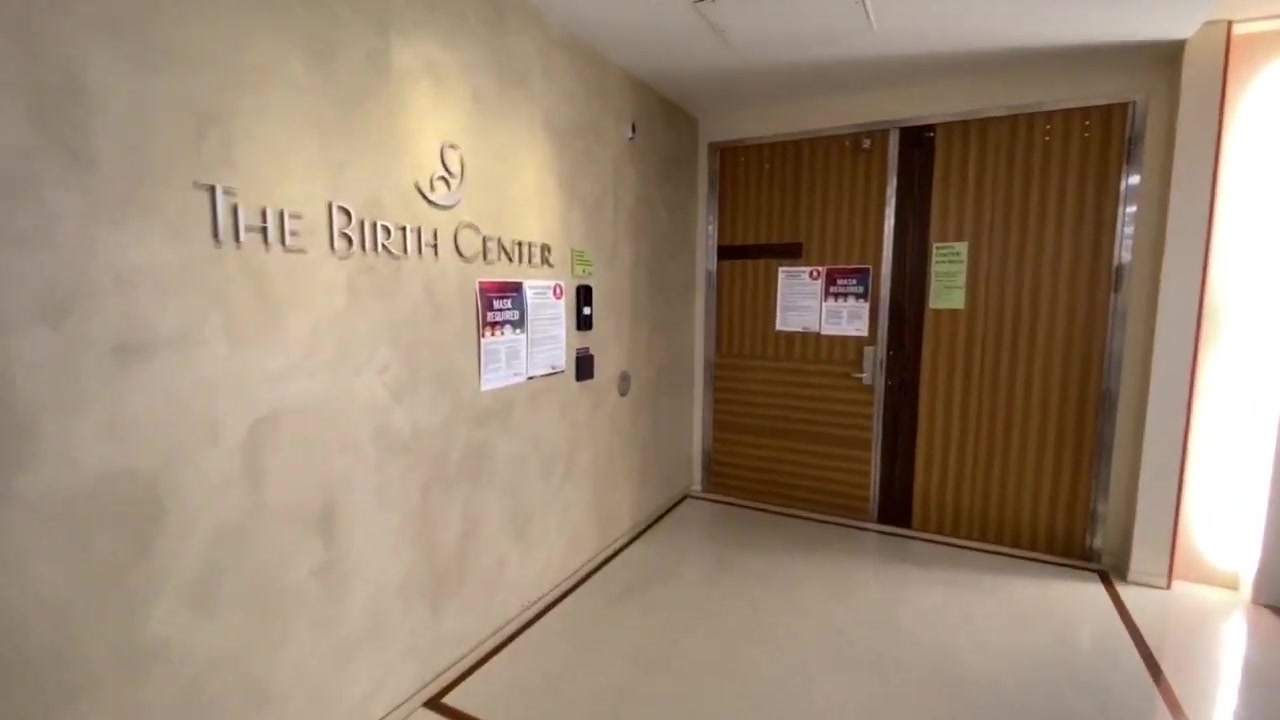door_handle: (850, 342, 879, 379)
